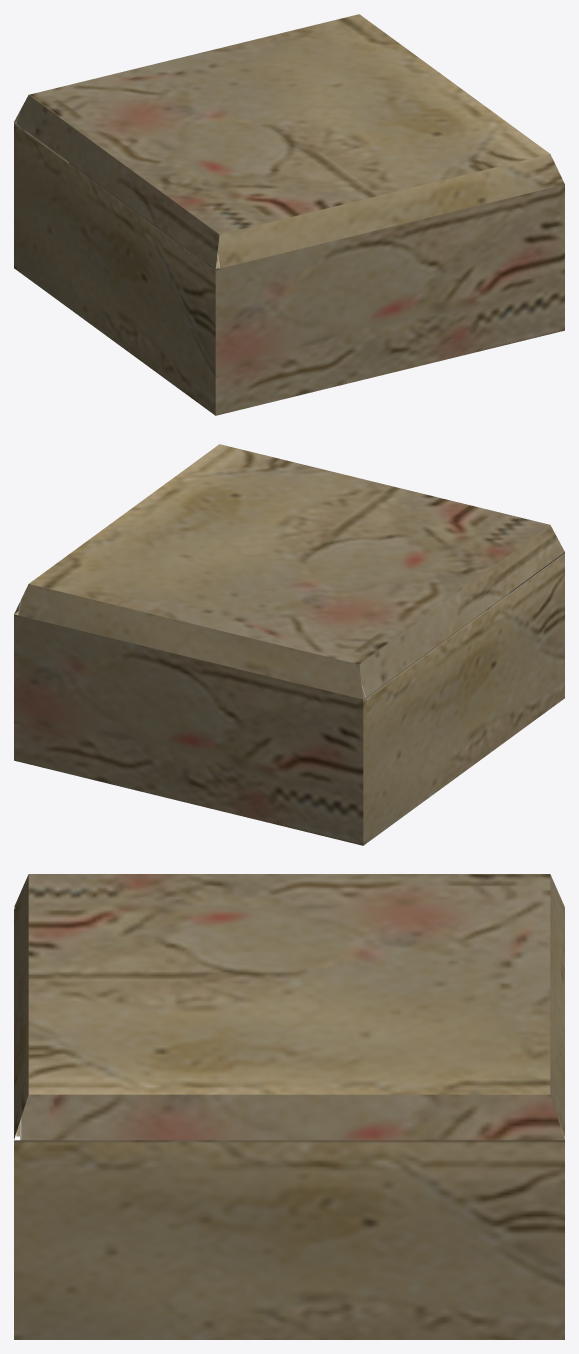
File: BoxPrototype.fbx
3 renders of one model, top to bottom at view 1: azimuth 30°, elevation 25°; view 2: azimuth 150°, elevation 25°; view 3: azimuth 270°, elevation 25°, orthographic. The views are drawn at different scales.
Parts seen in each view (by area): view 1: Box Cover_v1, Box_v1; view 2: Box Cover_v1, Box_v1; view 3: Box Cover_v1, Box_v1.
Part boxes in pixels (x1,y1,x2,y2): Box Cover_v1: [14, 14, 564, 269]; Box_v1: [14, 121, 564, 415]; Box Cover_v1: [14, 444, 564, 699]; Box_v1: [14, 552, 564, 845]; Box Cover_v1: [14, 874, 564, 1140]; Box_v1: [14, 1122, 564, 1339].
Bounding box in the file's own units: 266 × 120 × 250.
